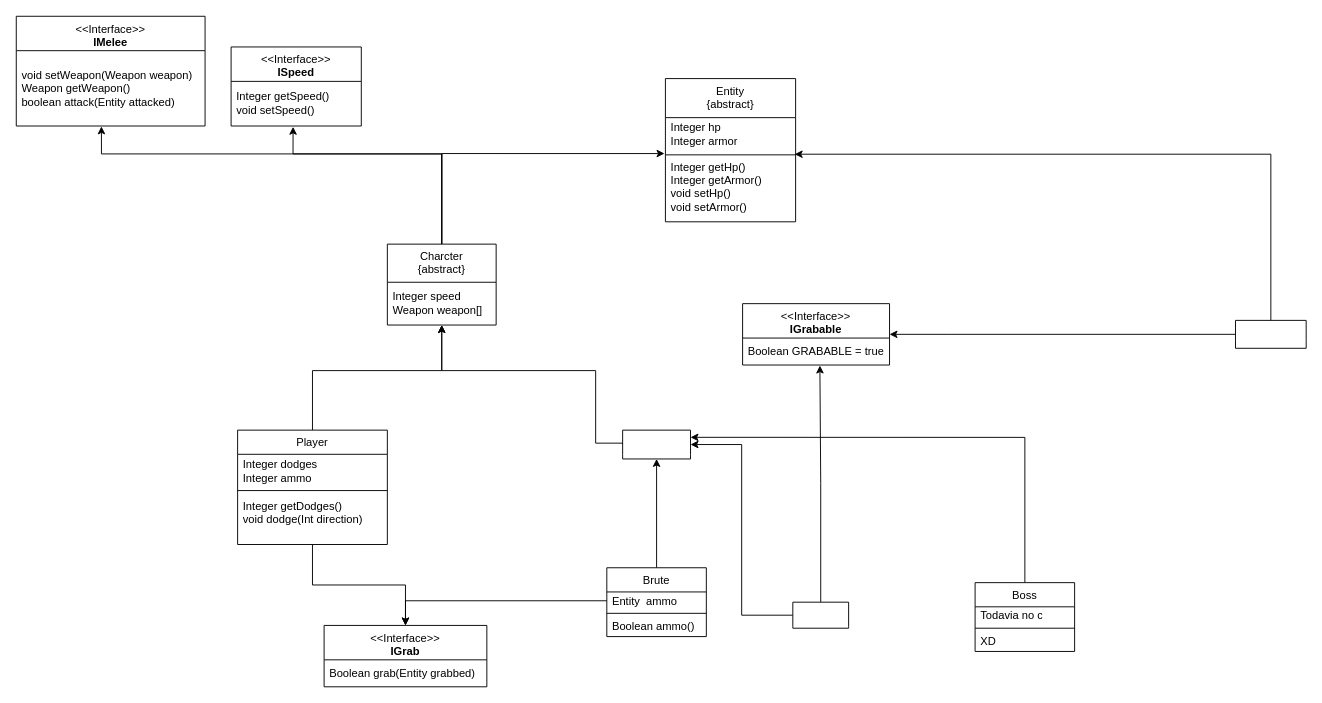
Image size: 1322x703. Some labels were removed from this diagram. Each missing label, with the centre of its shape:
"Enemy" goes at [656,444].
"Object" goes at [1270,333].
"Zombie" goes at [820,614].
